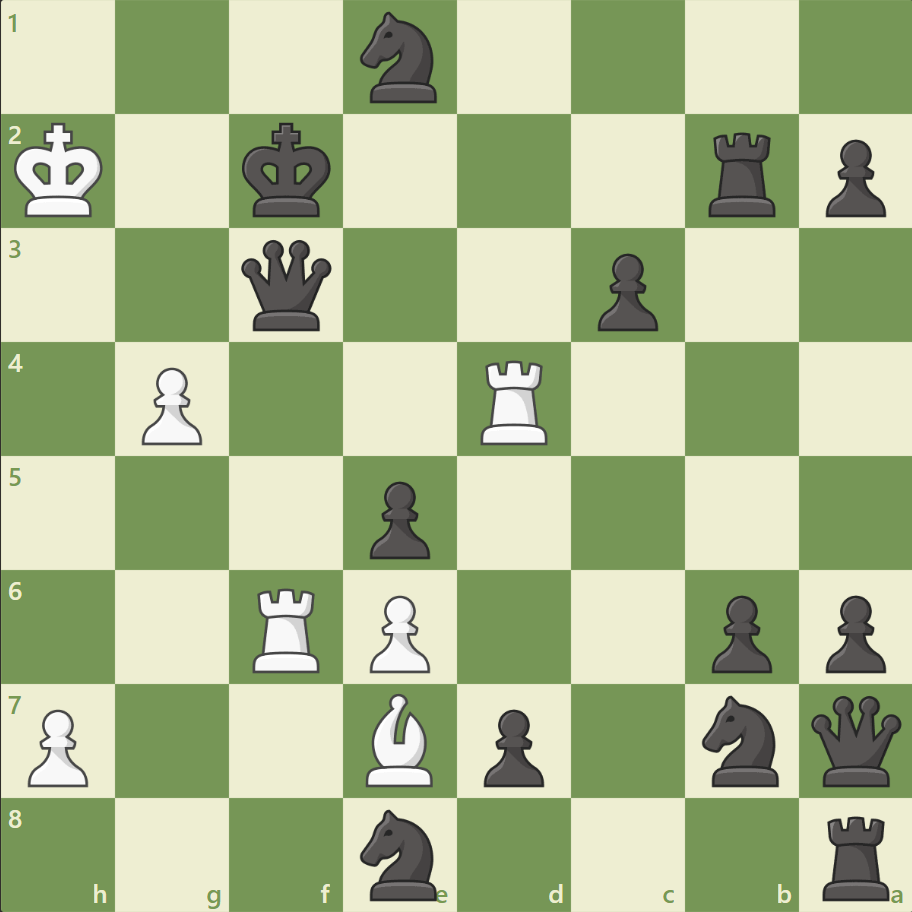B: (358, 687, 442, 790)
K: (11, 117, 111, 225)
P: (20, 700, 95, 791), (133, 359, 208, 450), (361, 586, 435, 677)
R: (246, 579, 329, 676), (473, 352, 556, 449)
k: (238, 117, 338, 225)
n: (351, 7, 449, 110), (351, 802, 449, 904), (692, 688, 789, 791)
p: (474, 700, 549, 791), (701, 586, 776, 677), (815, 586, 889, 677), (361, 473, 435, 564), (588, 246, 662, 337), (815, 132, 889, 223)
q: (805, 690, 904, 789), (237, 236, 336, 335)
r: (814, 806, 897, 904), (700, 125, 783, 222)
